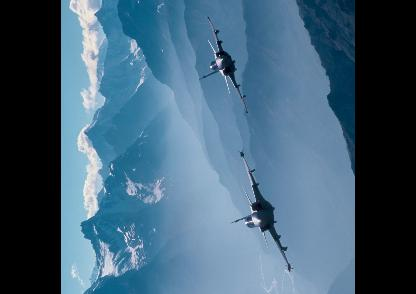JAS39: (229, 147, 293, 270), (198, 15, 248, 112)
